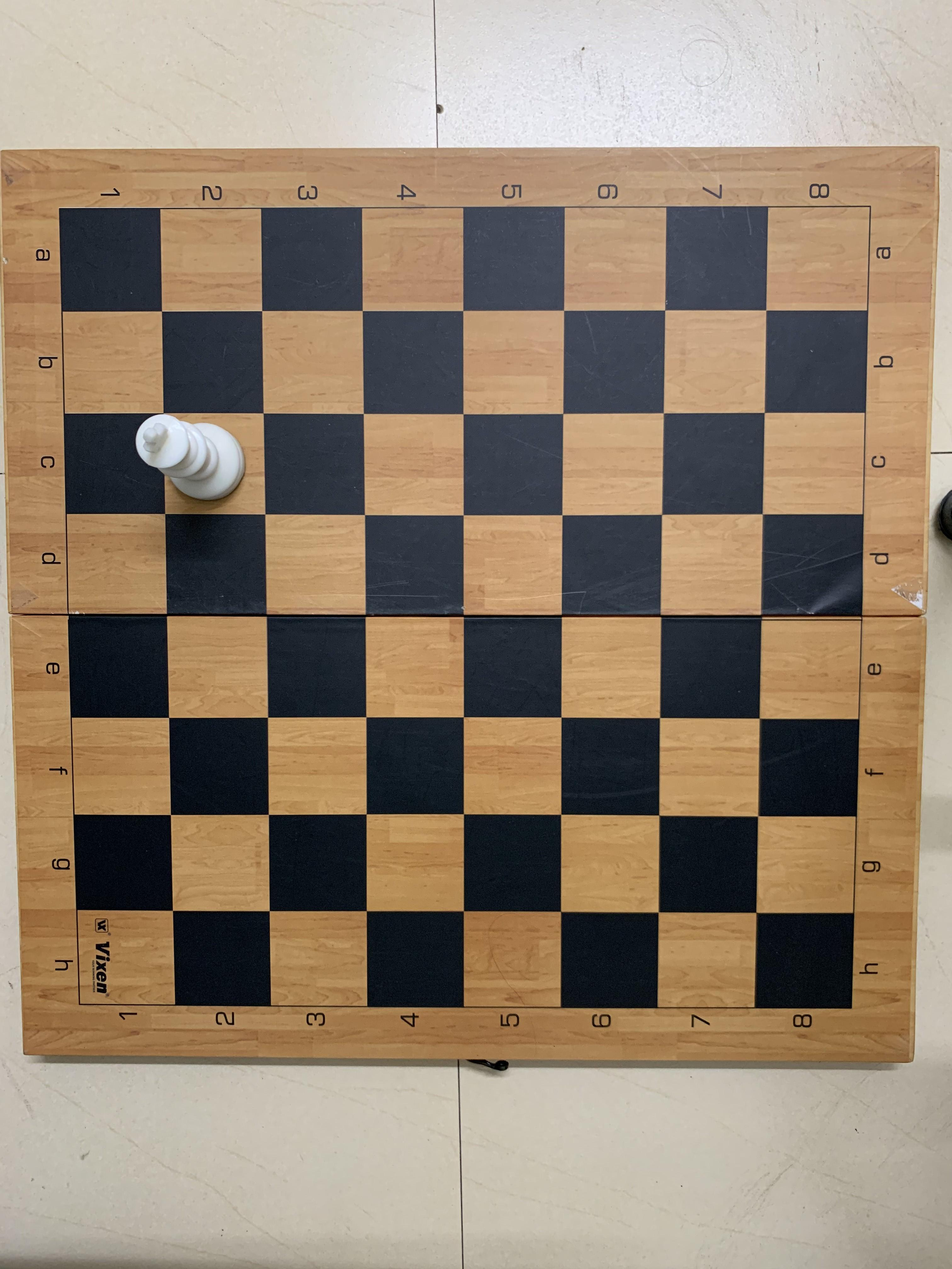white_king: (140, 412, 265, 510)
